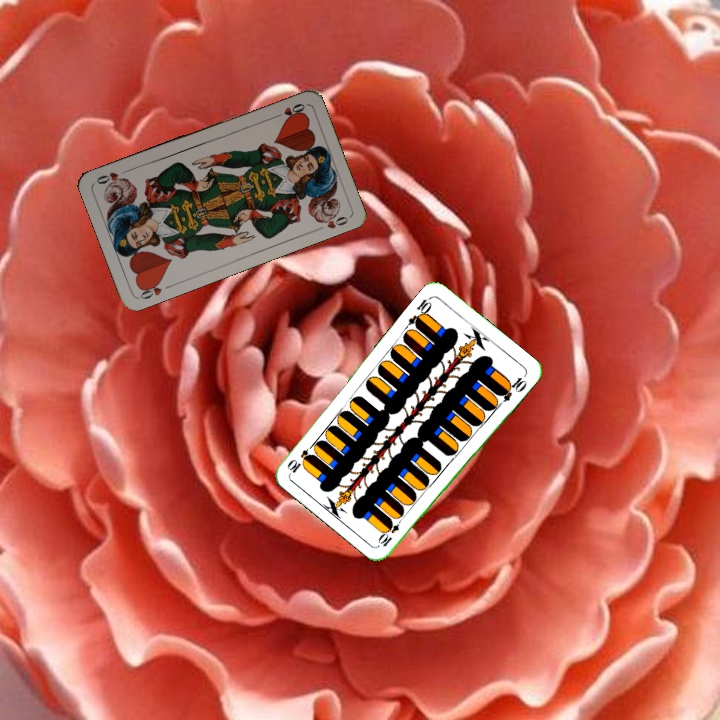E10: (375, 513, 406, 549), (404, 293, 434, 330)
HO: (135, 276, 175, 302), (269, 99, 308, 121)
